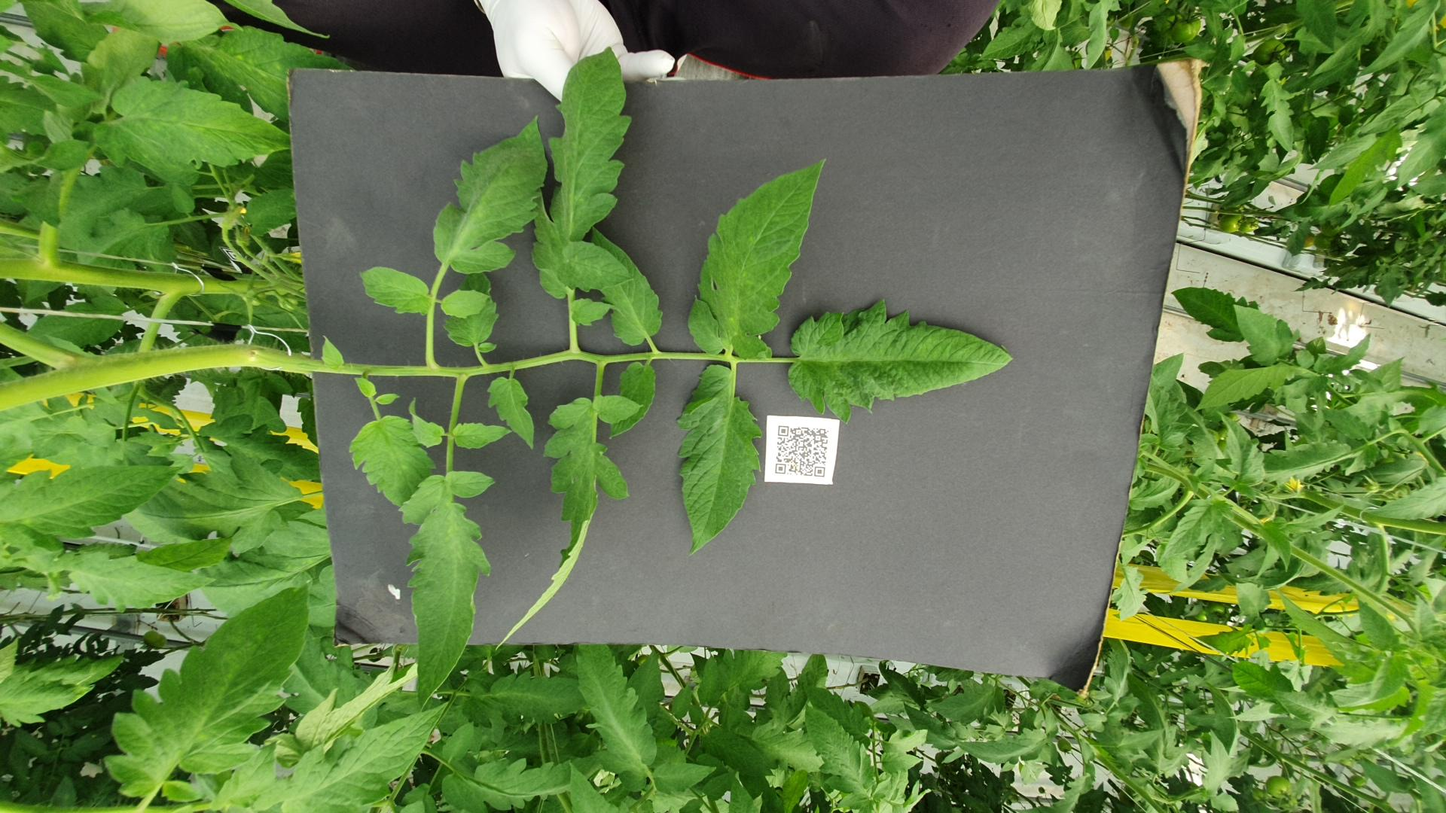Healthy: (28, 58, 413, 175), (288, 277, 746, 362), (691, 442, 918, 570), (806, 386, 1166, 466), (915, 299, 1359, 356), (175, 224, 611, 279), (463, 68, 645, 171), (0, 158, 199, 252), (960, 243, 1242, 308), (453, 379, 797, 430), (465, 0, 622, 104), (40, 324, 300, 369), (355, 38, 465, 123), (0, 248, 103, 338), (830, 332, 1043, 374), (588, 111, 712, 180), (542, 196, 710, 246), (1302, 760, 1446, 810), (1073, 746, 1229, 788), (35, 451, 194, 491), (1335, 9, 1446, 61), (184, 391, 290, 443), (155, 274, 253, 329), (711, 670, 802, 728), (150, 0, 250, 52), (443, 650, 561, 693), (833, 14, 918, 72), (837, 658, 936, 707), (1109, 784, 1270, 813), (113, 451, 229, 491), (829, 248, 962, 281), (583, 707, 664, 760), (62, 392, 154, 437), (67, 421, 166, 462), (520, 765, 602, 813), (642, 640, 773, 670), (155, 519, 239, 565), (794, 693, 903, 728), (663, 342, 802, 369), (583, 684, 719, 711), (170, 690, 269, 727), (884, 202, 973, 243), (646, 273, 778, 300), (87, 536, 154, 589), (1335, 549, 1422, 586), (1175, 708, 1307, 729), (1140, 734, 1209, 774), (290, 762, 382, 792), (1024, 137, 1118, 166), (195, 768, 286, 796), (278, 667, 338, 705), (154, 716, 220, 750), (32, 366, 92, 403), (1360, 728, 1446, 752), (651, 228, 739, 251), (340, 625, 440, 645), (200, 620, 311, 637), (427, 706, 514, 727), (645, 254, 697, 288), (661, 743, 722, 770), (34, 762, 96, 788), (881, 247, 932, 275), (92, 249, 167, 267), (867, 321, 917, 348), (70, 494, 110, 520), (142, 606, 181, 623)
